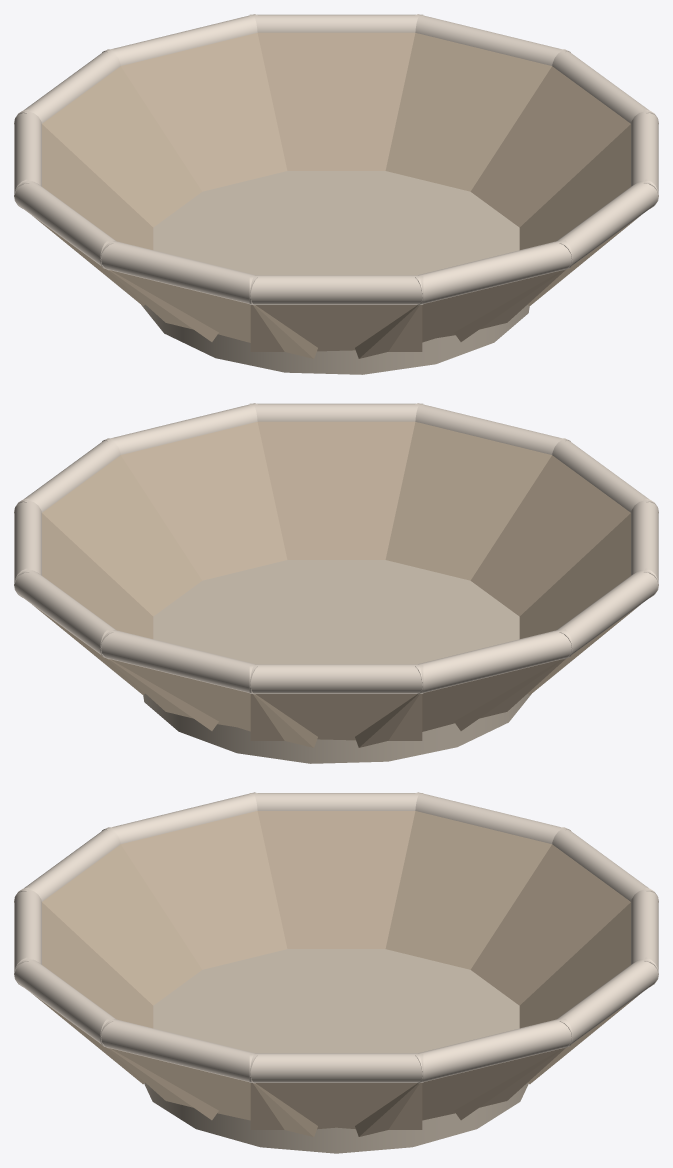
The model's file is CMU3DFoodBowlBigCloud.glb.
The picture shows the model from 3 angles, top to bottom: view 1: azimuth 30°, elevation 25°; view 2: azimuth 150°, elevation 25°; view 3: azimuth 270°, elevation 25°; orthographic projection.
Visible parts, largest first — view 1: closed ceramic basin floor, flared hollow ceramic wall 03, flared hollow ceramic wall 02, flared hollow ceramic wall 04, flared hollow ceramic wall 01, flared hollow ceramic wall 05, flared hollow ceramic wall 09, flared hollow ceramic wall 06, flared hollow ceramic wall 12, rolled ceramic rim 09, flared hollow ceramic wall 08, flared hollow ceramic wall 10 (+13 smaller); view 2: closed ceramic basin floor, flared hollow ceramic wall 11, flared hollow ceramic wall 10, flared hollow ceramic wall 12, flared hollow ceramic wall 01, flared hollow ceramic wall 09, flared hollow ceramic wall 05, flared hollow ceramic wall 02, flared hollow ceramic wall 08, rolled ceramic rim 05, flared hollow ceramic wall 06, flared hollow ceramic wall 04 (+13 smaller); view 3: closed ceramic basin floor, flared hollow ceramic wall 07, flared hollow ceramic wall 06, flared hollow ceramic wall 08, flared hollow ceramic wall 05, flared hollow ceramic wall 09, flared hollow ceramic wall 01, flared hollow ceramic wall 04, flared hollow ceramic wall 10, rolled ceramic rim 01, flared hollow ceramic wall 02, flared hollow ceramic wall 12 (+13 smaller).
Part boxes in pixels (x1,y1,x2,y2): closed ceramic basin floor: (141,171,529,374); flared hollow ceramic wall 03: (257,32,415,170); flared hollow ceramic wall 02: (385,33,551,191); flared hollow ceramic wall 04: (121,33,287,191); flared hollow ceramic wall 01: (470,66,630,227); flared hollow ceramic wall 05: (42,66,202,227); flared hollow ceramic wall 09: (250,305,422,351); flared hollow ceramic wall 06: (34,124,153,306); flared hollow ceramic wall 12: (519,124,638,306); rolled ceramic rim 09: (249,275,423,304); flared hollow ceramic wall 08: (107,270,317,358); flared hollow ceramic wall 10: (355,270,565,358); closed ceramic basin floor: (143,560,531,763); flared hollow ceramic wall 11: (257,421,415,559); flared hollow ceramic wall 10: (385,422,551,580); flared hollow ceramic wall 12: (121,422,287,580); flared hollow ceramic wall 01: (42,455,202,616); flared hollow ceramic wall 09: (470,455,630,616); flared hollow ceramic wall 05: (250,694,422,740); flared hollow ceramic wall 02: (34,513,153,695); flared hollow ceramic wall 08: (519,513,638,695); rolled ceramic rim 05: (249,664,423,693); flared hollow ceramic wall 06: (355,659,565,747); flared hollow ceramic wall 04: (107,659,317,747); closed ceramic basin floor: (144,949,528,1153); flared hollow ceramic wall 07: (257,811,415,948); flared hollow ceramic wall 06: (385,811,551,969); flared hollow ceramic wall 08: (121,811,287,969); flared hollow ceramic wall 05: (470,844,630,1005); flared hollow ceramic wall 09: (42,844,202,1005); flared hollow ceramic wall 01: (250,1083,422,1129); flared hollow ceramic wall 04: (519,902,639,1084); flared hollow ceramic wall 10: (33,902,153,1084); rolled ceramic rim 01: (249,1053,423,1082); flared hollow ceramic wall 02: (355,1048,565,1136); flared hollow ceramic wall 12: (107,1048,317,1136).
Size of the model in its own units: 0.7325 by 0.2 by 0.7325.
